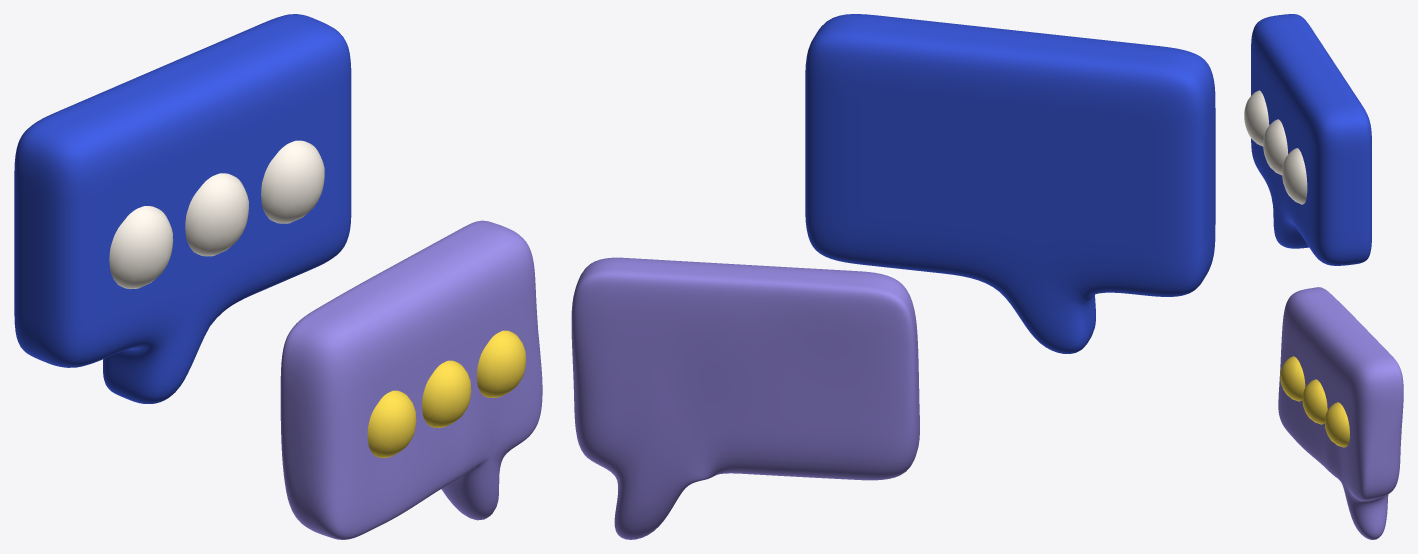
File: ChatBubbles.glb
3 views of the same model, side by side, from view 1: azimuth 30°, elevation 25°; view 2: azimuth 150°, elevation 25°; view 3: azimuth 270°, elevation 25° (orthographic). The views are drawn at different scales.
Visible parts, largest first — view 1: Object_4, Object_4.001; view 2: Object_4, Object_4.001; view 3: Object_4, Object_4.001.
Boxes of the visible parts, <box> form: Object_4: <box>14,14,351,403</box>; Object_4.001: <box>280,220,542,539</box>; Object_4: <box>805,14,1215,353</box>; Object_4.001: <box>571,257,919,539</box>; Object_4: <box>1244,14,1371,265</box>; Object_4.001: <box>1278,287,1403,539</box>.
Size of the model in its own units: 4.94 by 4.56 by 1.8.
